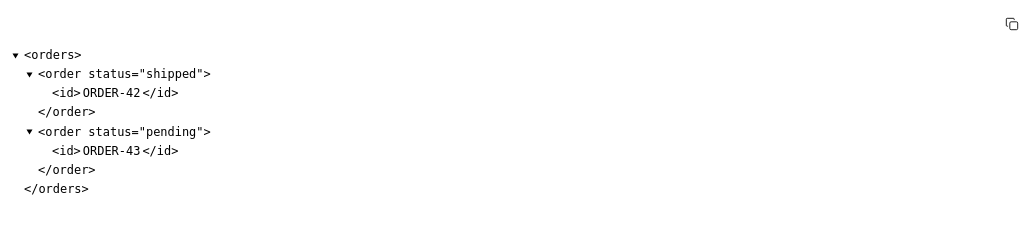
Scenario: find in an XML document (Ctrl+F) › finds an element by its text content
The width and height of the screenshot is (1036, 244).
Press f
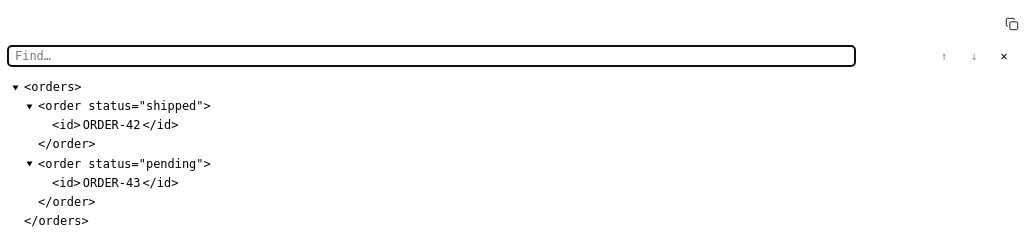
Type "ORDER-43" into the field named "Find in document".
click(432, 56); type("ORDER-43")  # box [8,46,855,66]
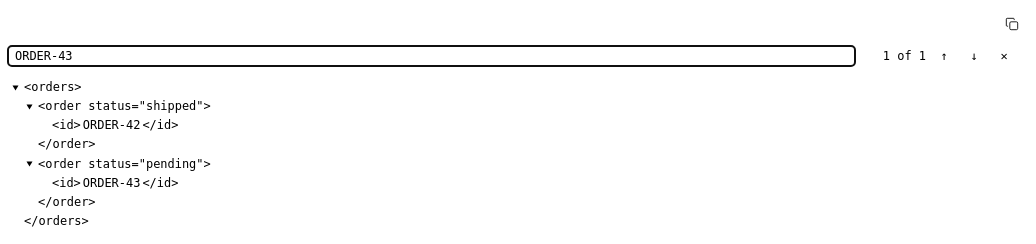
expect the text "1 of 1" is shown: met, box [883,49,926,63]
